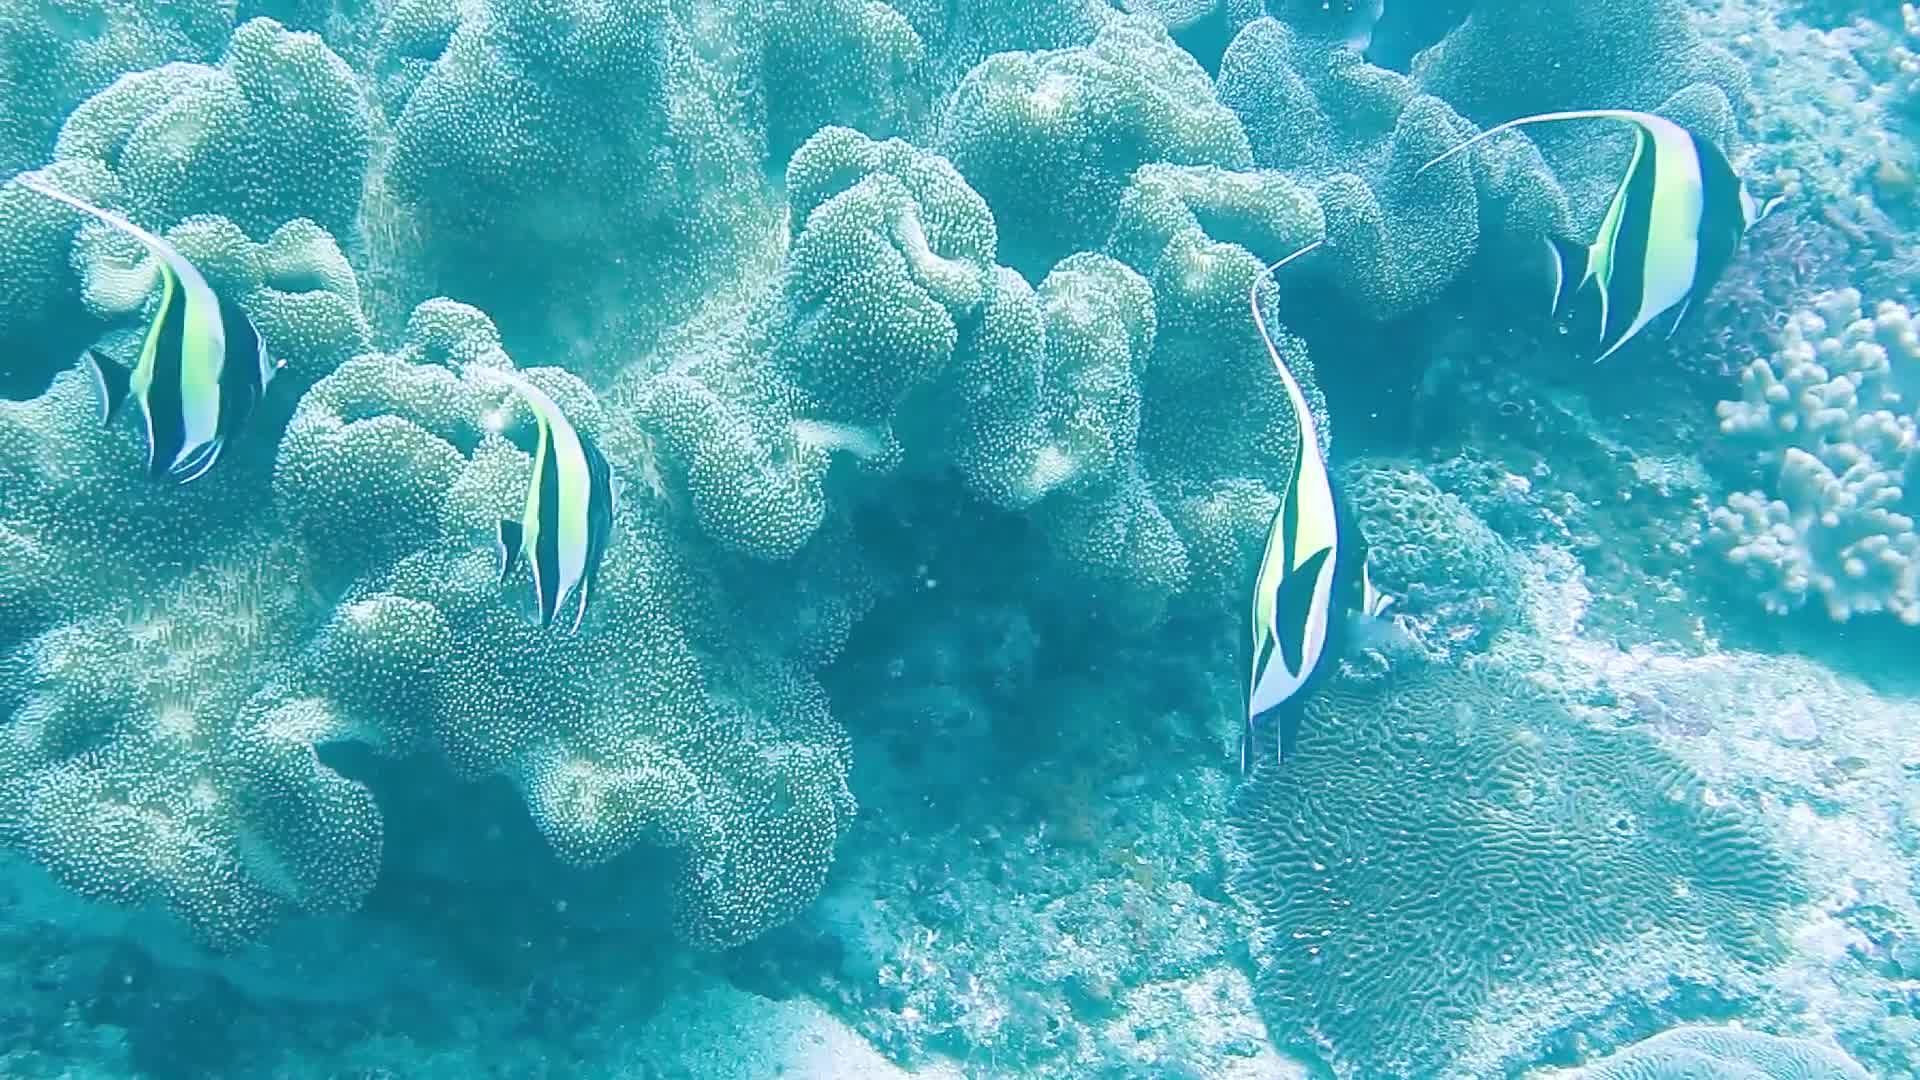Zanclus cornutus: (69, 193, 319, 524), (425, 327, 675, 657), (1193, 411, 1443, 742), (1528, 65, 1778, 394)
